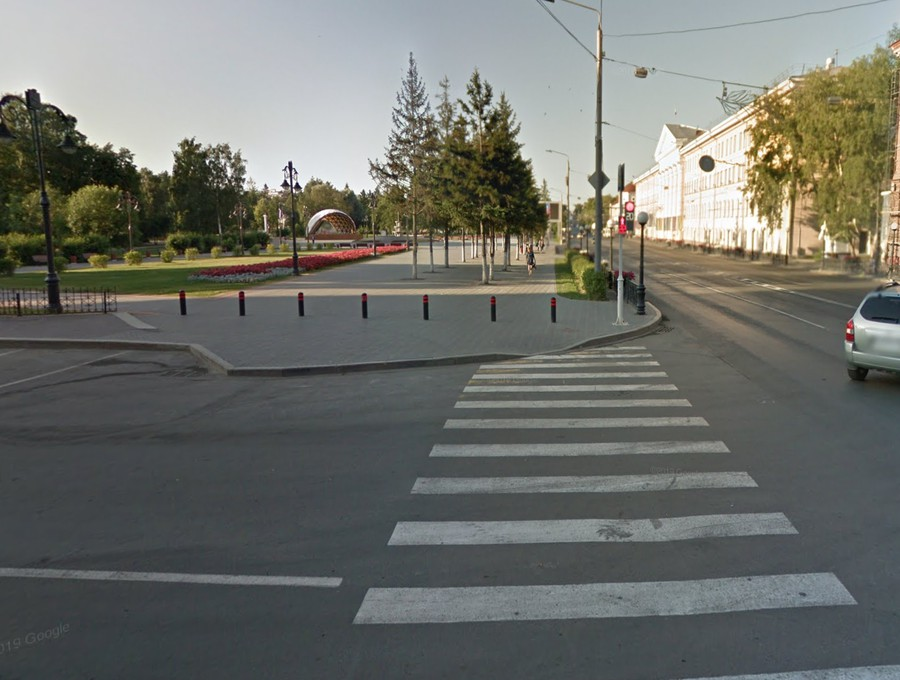Traffic Light-red: (614, 214, 629, 238)
